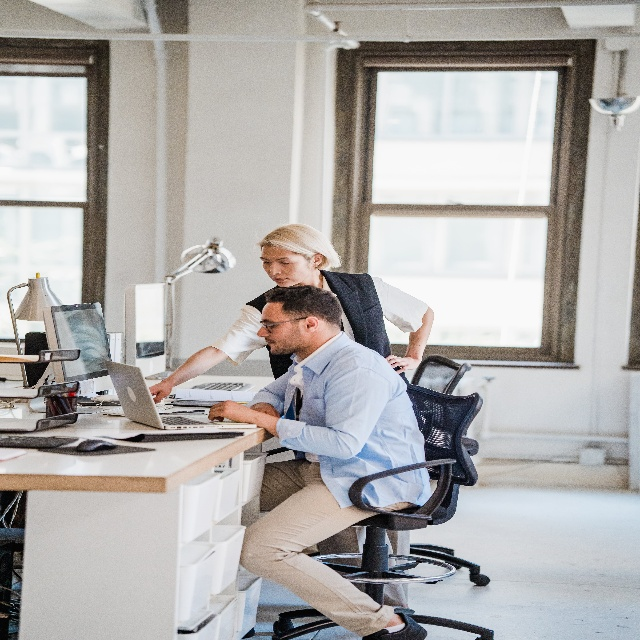Gafas: (259, 315, 308, 333)
Sin_guantes: (208, 401, 254, 425), (148, 377, 172, 404), (385, 354, 416, 374), (251, 402, 280, 418)
